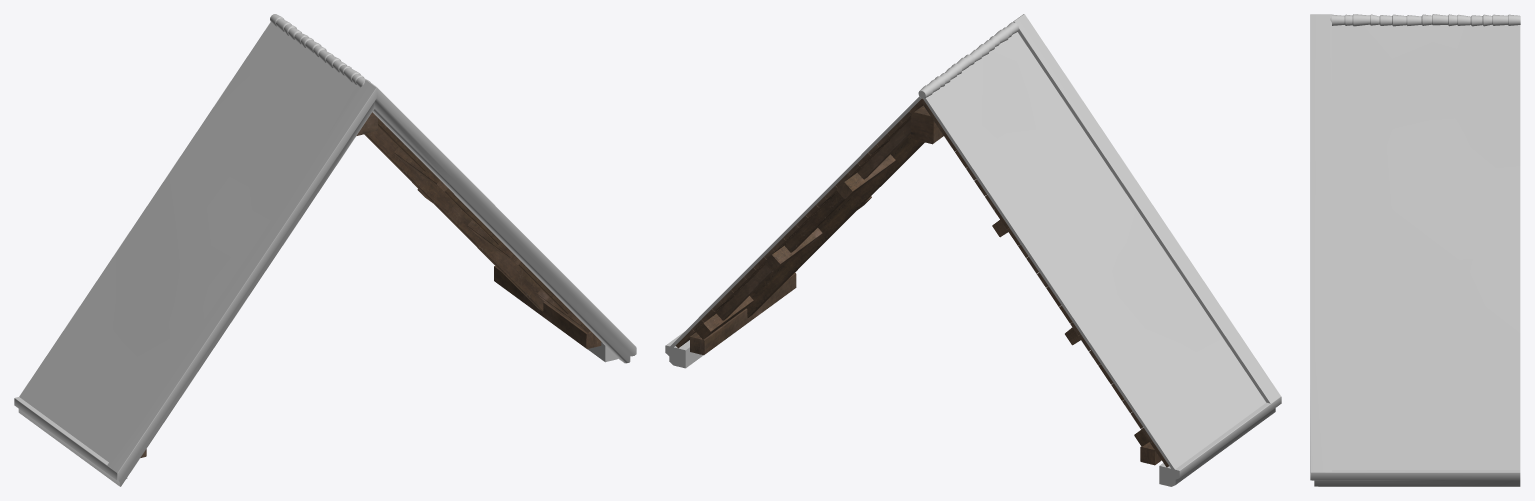
File: SM_Roof_12m_02.fbx
3 views of the same model, side by side, from view 1: azimuth 30°, elevation 25°; view 2: azimuth 150°, elevation 25°; view 3: azimuth 270°, elevation 25° (orthographic). The views are drawn at different scales.
Visible parts, largest first — view 1: SM_Roof_12m_02_LOD0; view 2: SM_Roof_12m_02_LOD0; view 3: SM_Roof_12m_02_LOD0.
Part boxes in pixels (left/top/right/bottom): SM_Roof_12m_02_LOD0: left=14, top=14, right=636, bottom=486; SM_Roof_12m_02_LOD0: left=665, top=14, right=1281, bottom=486; SM_Roof_12m_02_LOD0: left=1310, top=14, right=1520, bottom=486.
Size of what is drawn, in the model's own units: 1295 by 812 by 446.
